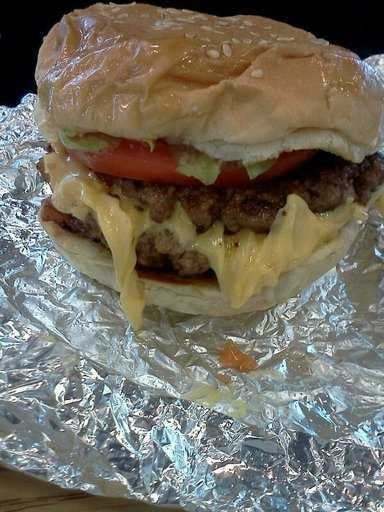hamburger: (22, 7, 375, 331)
